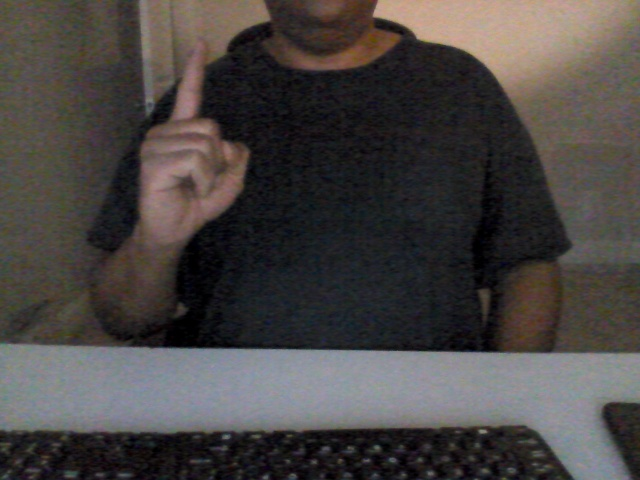up: (128, 31, 258, 258)
